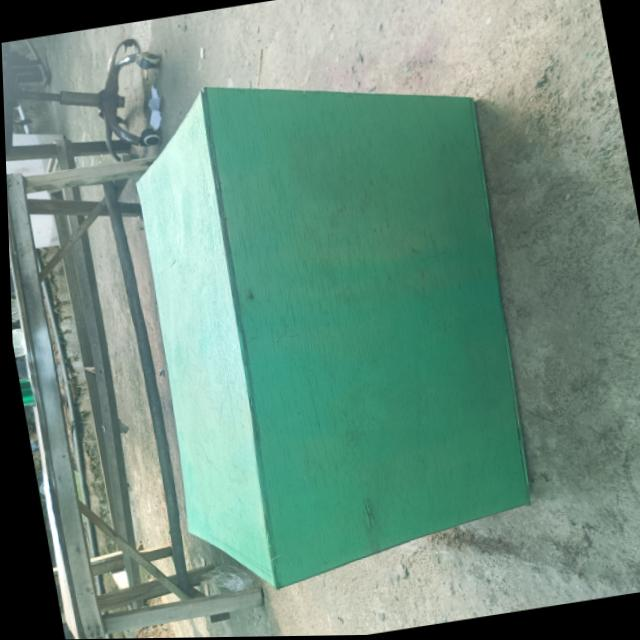green_box: (98, 60, 561, 605)
